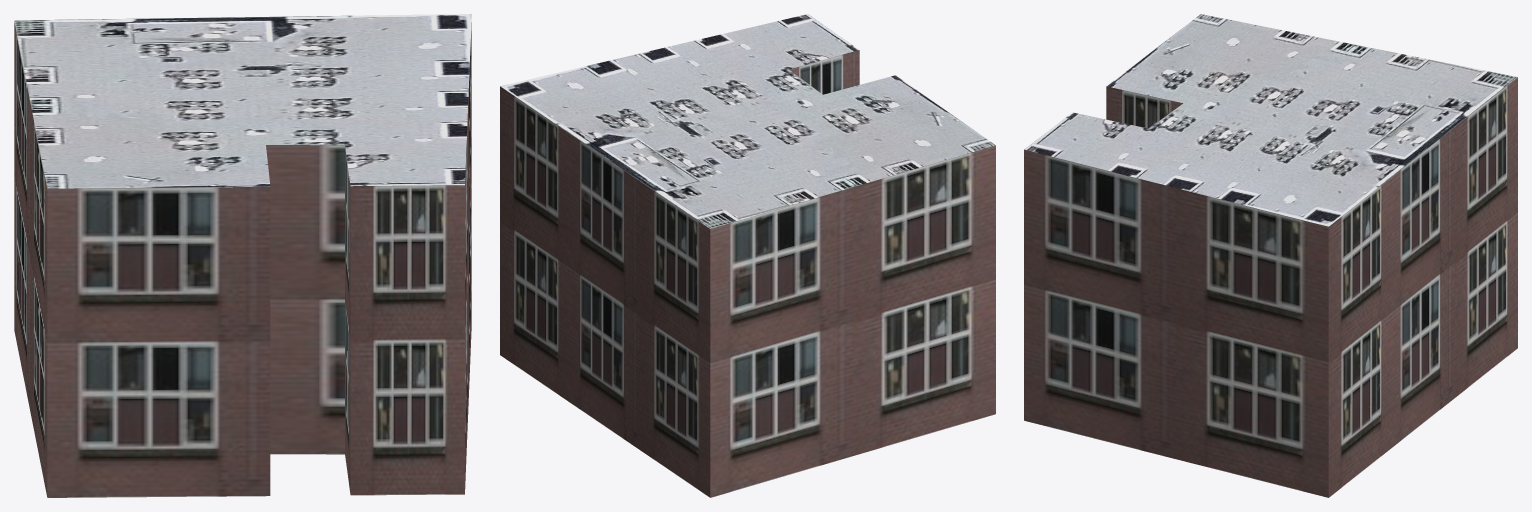
The model's file is ResTex__1909.fbx.
3 renders of one model, left to right at view 1: azimuth 30°, elevation 25°; view 2: azimuth 150°, elevation 25°; view 3: azimuth 270°, elevation 25°, orthographic. The views are drawn at different scales.
Visible parts, largest first — view 1: CityEngineMaterial_12_m, CityEngineMaterial_2_m; view 2: CityEngineMaterial_12_m, CityEngineMaterial_2_m; view 3: CityEngineMaterial_12_m, CityEngineMaterial_2_m.
Boxes of the visible parts, box(x1,y1,x2,y2) form: CityEngineMaterial_12_m: box(14, 22, 471, 497); CityEngineMaterial_2_m: box(14, 14, 471, 188); CityEngineMaterial_12_m: box(500, 50, 995, 497); CityEngineMaterial_2_m: box(500, 14, 995, 228); CityEngineMaterial_12_m: box(1024, 77, 1517, 497); CityEngineMaterial_2_m: box(1024, 14, 1517, 226).
Bounding box in the file's own units: 10.1 × 6 × 9.9.
Materials: 2 (2 with a texture image).
